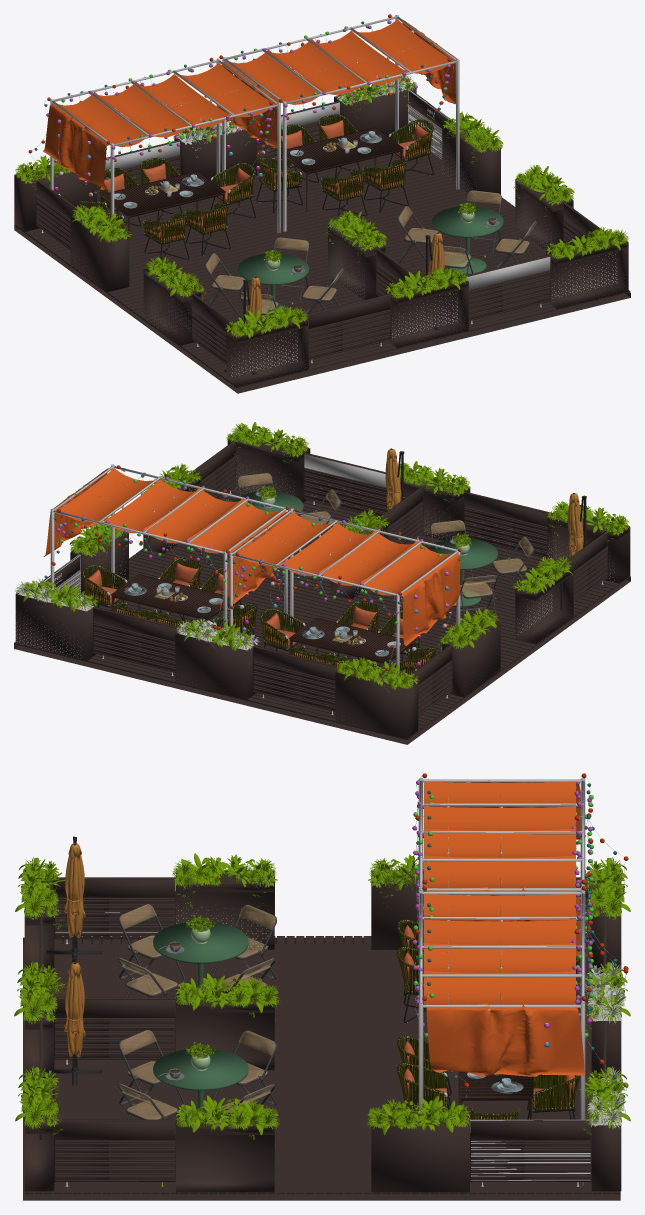
Rendered from coffee_tent.gltf.
3 views of the same model, one above another, from view 1: azimuth 30°, elevation 25°; view 2: azimuth 150°, elevation 25°; view 3: azimuth 270°, elevation 25° (orthographic). The views are drawn at different scales.
Visible parts, largest first — view 1: 欧模网2023_06_09_12515612; view 2: 欧模网2023_06_09_12515612; view 3: 欧模网2023_06_09_12515612.
Boxes of the visible parts, left/top/right/bottom form: 欧模网2023_06_09_12515612: left=14, top=14, right=630, bottom=393; 欧模网2023_06_09_12515612: left=14, top=422, right=630, bottom=744; 欧模网2023_06_09_12515612: left=14, top=773, right=630, bottom=1200.
Size of the model in its own units: 7.33 by 2.46 by 7.21.
66 materials, 1 textured.
